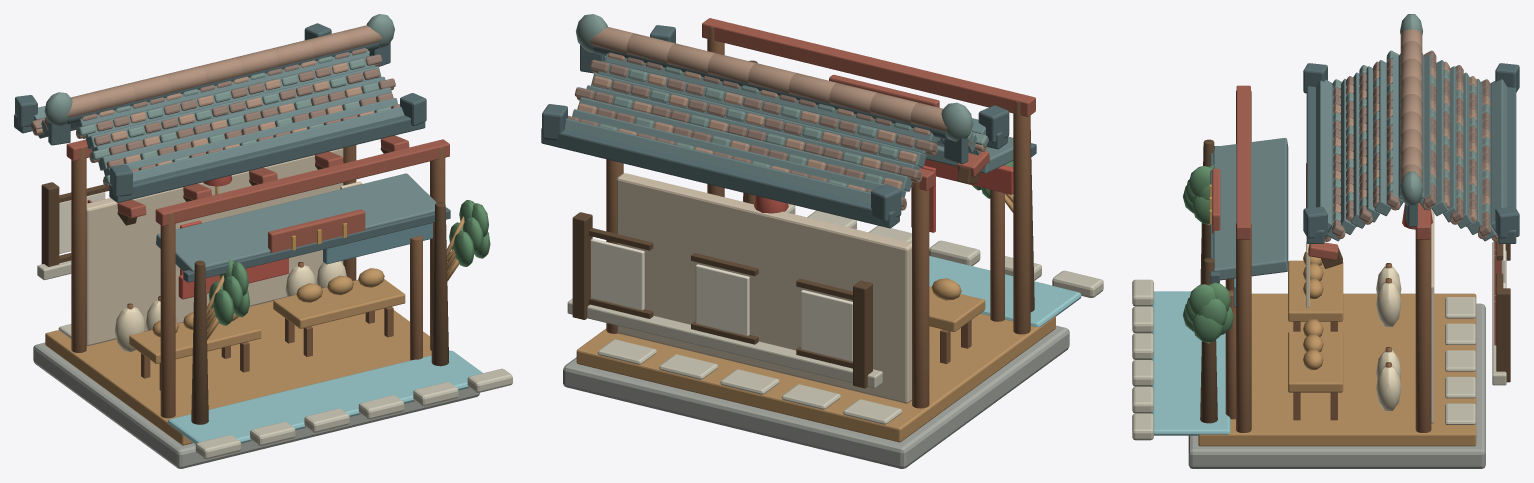
File: building_market_open.glb
The picture shows the model from 3 angles, left to right: view 1: azimuth 30°, elevation 25°; view 2: azimuth 150°, elevation 25°; view 3: azimuth 270°, elevation 25°; orthographic projection. The views are drawn at different scales.
Parts seen in each view (by area): view 1: V4_wood_light.005, V4_roof.005, V4_plaster_warm.001, V4_roof_edge.005, V4_wood.005, V4_wood_red.005, V4_roof_terracotta_light.005, V4_water_light.001, V4_wood_dark.005, V4_roof_terracotta.005, V4_stone.005, V4_stone_light.005 (+6 smaller); view 2: V4_plaster_warm.001, V4_wood_light.005, V4_roof.005, V4_stone.005, V4_stone_light.005, V4_roof_terracotta_light.005, V4_roof_edge.005, V4_wood.005, V4_plaster_light.005, V4_wood_red.005, V4_roof_terracotta.005, V4_wood_dark.005 (+3 smaller); view 3: V4_wood_light.005, V4_roof.005, V4_wood.005, V4_stone.005, V4_stone_light.005, V4_water_light.001, V4_roof_terracotta.005, V4_roof_terracotta_light.005, V4_roof_edge.005, V4_wood_red.005, V4_wood_dark.005, V4_roof_moss.005 (+3 smaller).
Boxes of the visible parts, x1=… form: V4_wood_light.005: x1=45, y1=216, x2=464, y2=445; V4_roof.005: x1=34, y1=49, x2=436, y2=271; V4_plaster_warm.001: x1=86, y1=148, x2=343, y2=345; V4_roof_edge.005: x1=14, y1=23, x2=450, y2=282; V4_wood.005: x1=71, y1=145, x2=445, y2=418; V4_wood_red.005: x1=66, y1=135, x2=449, y2=252; V4_roof_terracotta_light.005: x1=32, y1=25, x2=393, y2=187; V4_water_light.001: x1=167, y1=350, x2=482, y2=444; V4_wood_dark.005: x1=41, y1=147, x2=448, y2=424; V4_roof_terracotta.005: x1=31, y1=48, x2=399, y2=171; V4_stone.005: x1=33, y1=342, x2=479, y2=468; V4_stone_light.005: x1=37, y1=260, x2=512, y2=459; V4_plaster_warm.001: x1=617, y1=173, x2=911, y2=403; V4_wood_light.005: x1=576, y1=193, x2=1055, y2=442; V4_roof.005: x1=565, y1=53, x2=1013, y2=203; V4_stone.005: x1=563, y1=325, x2=1069, y2=468; V4_stone_light.005: x1=567, y1=203, x2=1103, y2=424; V4_roof_terracotta_light.005: x1=576, y1=27, x2=986, y2=210; V4_roof_edge.005: x1=541, y1=25, x2=1036, y2=228; V4_wood.005: x1=606, y1=26, x2=1030, y2=408; V4_plaster_light.005: x1=590, y1=238, x2=852, y2=361; V4_wood_red.005: x1=702, y1=18, x2=1035, y2=190; V4_roof_terracotta.005: x1=568, y1=57, x2=936, y2=207; V4_wood_dark.005: x1=572, y1=60, x2=1034, y2=388; V4_wood_light.005: x1=1198, y1=224, x2=1476, y2=446; V4_roof.005: x1=1213, y1=53, x2=1507, y2=280; V4_wood.005: x1=1225, y1=90, x2=1431, y2=432; V4_stone.005: x1=1188, y1=303, x2=1485, y2=468; V4_stone_light.005: x1=1132, y1=242, x2=1506, y2=440; V4_water_light.001: x1=1151, y1=291, x2=1230, y2=435; V4_roof_terracotta.005: x1=1324, y1=50, x2=1490, y2=238; V4_roof_terracotta_light.005: x1=1324, y1=29, x2=1498, y2=241; V4_roof_edge.005: x1=1210, y1=63, x2=1519, y2=283; V4_wood_red.005: x1=1212, y1=85, x2=1501, y2=345; V4_wood_dark.005: x1=1200, y1=139, x2=1510, y2=423; V4_roof_moss.005: x1=1332, y1=14, x2=1489, y2=221.
Size of the model in its own units: 3.37 by 2.79 by 3.23.
